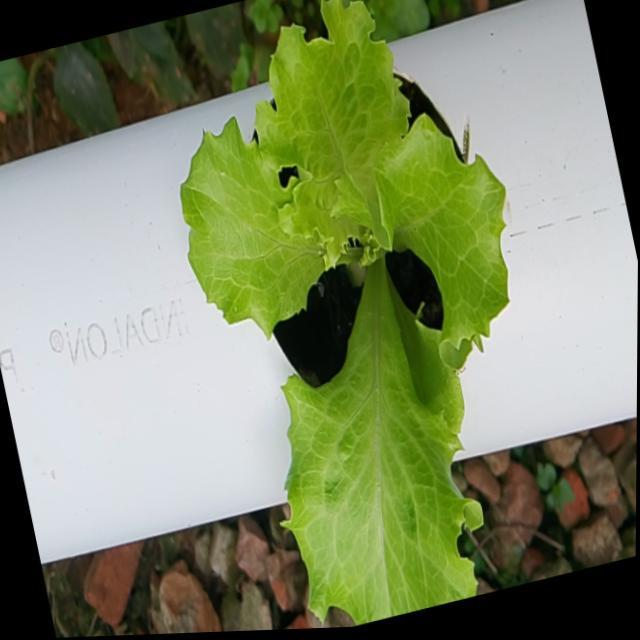Baby: (178, 1, 498, 626)
